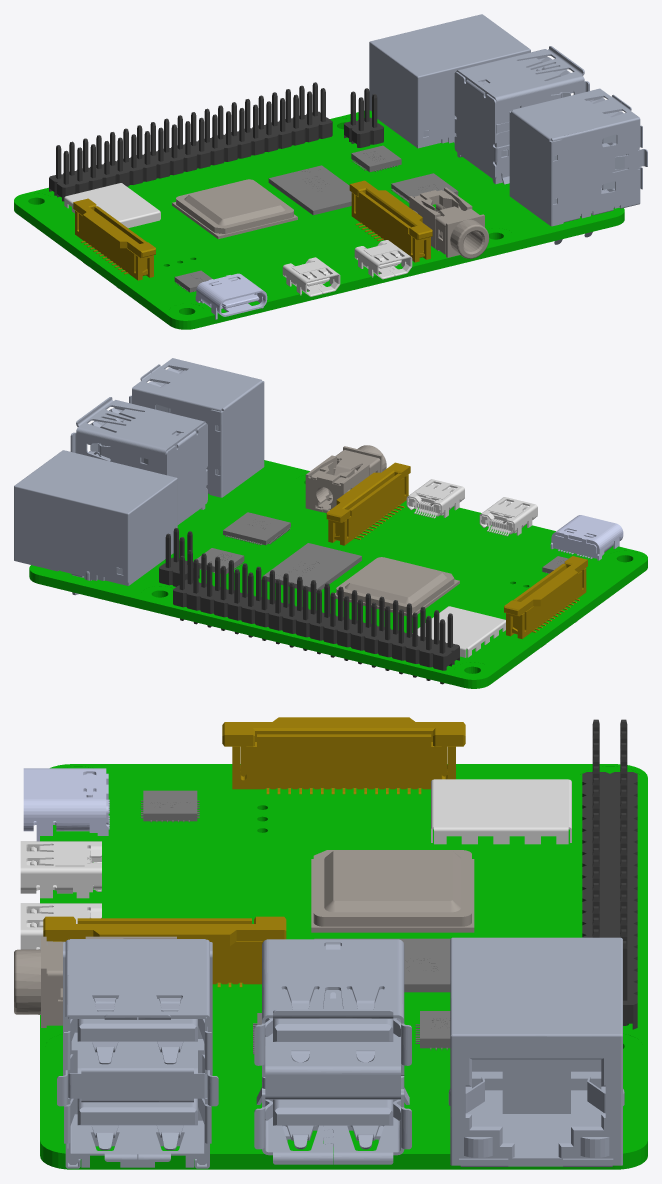
3 views of the same model, one above another, from view 1: azimuth 30°, elevation 25°; view 2: azimuth 150°, elevation 25°; view 3: azimuth 270°, elevation 25° (orthographic). The views are drawn at different scales.
Parts seen in each view (by area): view 1: NAUO1, NAUO17, NAUO4, NAUO8, NAUO12, NAUO2, NAUO5, NAUO6, NAUO7, NAUO13, NAUO14, NAUO11 (+6 smaller); view 2: NAUO1, NAUO8, NAUO4, NAUO17, NAUO12, NAUO2, NAUO5, NAUO7, NAUO6, NAUO13, NAUO11, NAUO14 (+5 smaller); view 3: NAUO1, NAUO8, NAUO17, NAUO12, NAUO7, NAUO2, NAUO4, NAUO14, NAUO5, NAUO11, NAUO10, NAUO6 (+4 smaller).
Boxes of the visible parts, x1,y1,x2,y2 form: NAUO1: (14,110,624,329); NAUO17: (509,88,647,244); NAUO4: (49,82,332,201); NAUO8: (369,14,530,148); NAUO12: (454,46,589,184); NAUO2: (172,179,297,239); NAUO5: (349,180,432,262); NAUO6: (409,187,489,258); NAUO7: (73,198,155,280); NAUO13: (268,165,351,215); NAUO14: (64,183,160,228); NAUO11: (195,273,267,319); NAUO1: (29,460,647,688); NAUO8: (14,450,177,595); NAUO4: (173,550,459,684); NAUO17: (129,358,264,497); NAUO12: (70,397,207,524); NAUO2: (335,557,459,617); NAUO5: (326,462,410,545); NAUO7: (504,556,587,638); NAUO6: (305,445,386,512); NAUO13: (263,543,361,592); NAUO11: (550,515,623,560); NAUO14: (412,606,505,657); NAUO1: (40,764,647,1169); NAUO8: (448,937,624,1166); NAUO17: (57,939,218,1168); NAUO12: (254,939,411,1164); NAUO7: (222,717,465,794); NAUO2: (311,850,474,932); NAUO4: (582,719,637,1029); NAUO14: (431,779,571,844); NAUO5: (43,916,286,987); NAUO11: (23,768,109,841); NAUO10: (20,841,101,898); NAUO6: (14,936,176,1027).
Size of the model in its own units: 0.089 by 0.0199 by 0.0584.
